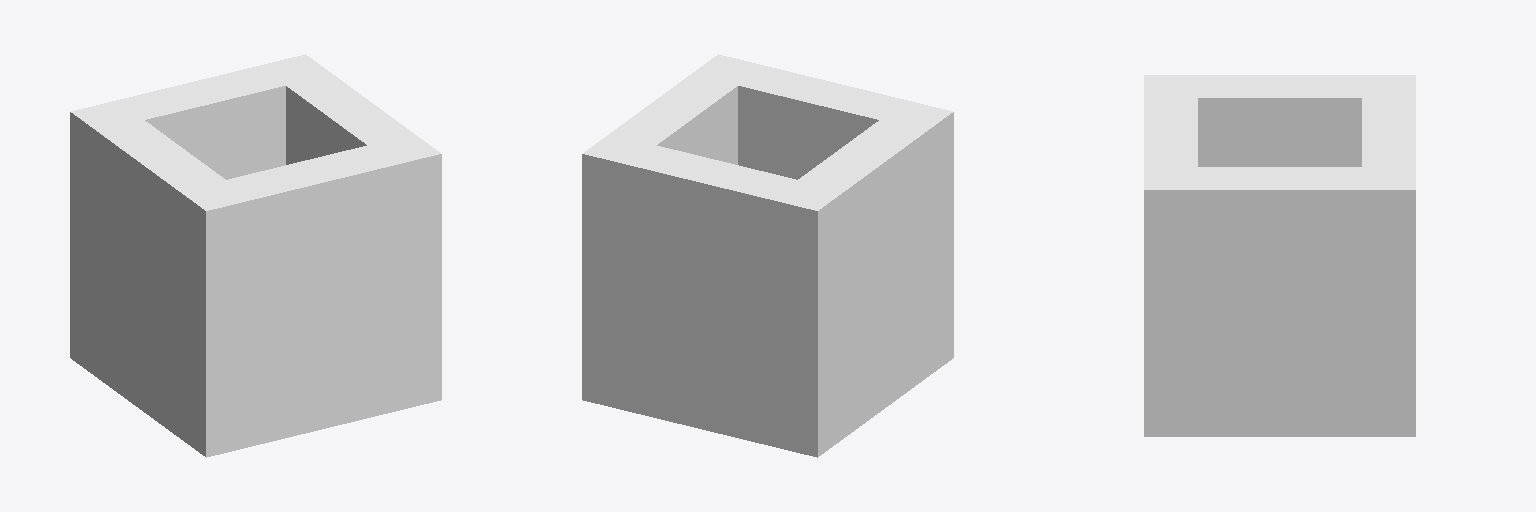
The model's file is APT.obj.
3 views of the same model, side by side, from view 1: azimuth 30°, elevation 25°; view 2: azimuth 150°, elevation 25°; view 3: azimuth 270°, elevation 25° (orthographic).
Parts seen in each view (by area): view 1: object 1; view 2: object 1; view 3: object 1.
Part boxes in pixels (x1,y1,x2,y2): object 1: (70, 54, 441, 457); object 1: (582, 54, 953, 457); object 1: (1144, 75, 1415, 436).
Bounding box in the file's own units: 2 × 2 × 2.